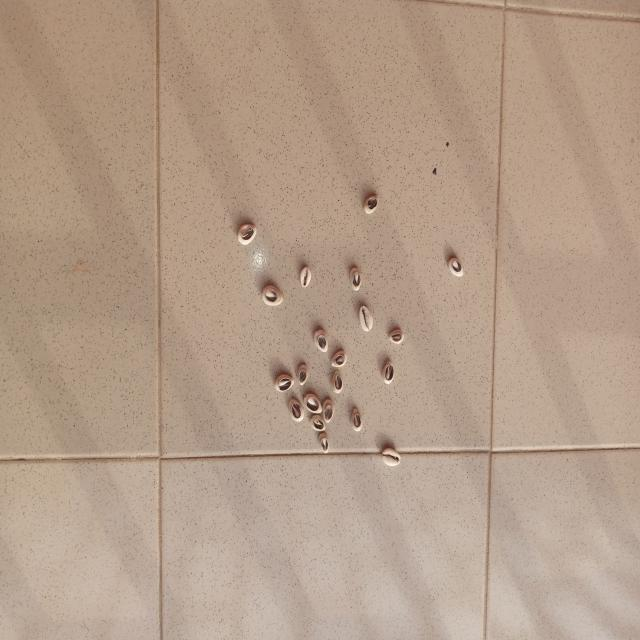facedown: (261, 282, 285, 308), (235, 222, 259, 246), (447, 255, 465, 279), (288, 397, 304, 422), (363, 194, 380, 217), (275, 373, 294, 393), (314, 328, 329, 353), (348, 266, 362, 292), (381, 360, 395, 386), (305, 394, 322, 414), (350, 407, 363, 432), (330, 370, 344, 393), (296, 364, 310, 387), (317, 433, 331, 456), (330, 351, 348, 368), (388, 328, 405, 345), (323, 399, 335, 423), (309, 415, 325, 431)
faceup: (381, 444, 401, 468), (358, 305, 374, 332), (299, 266, 312, 290)
